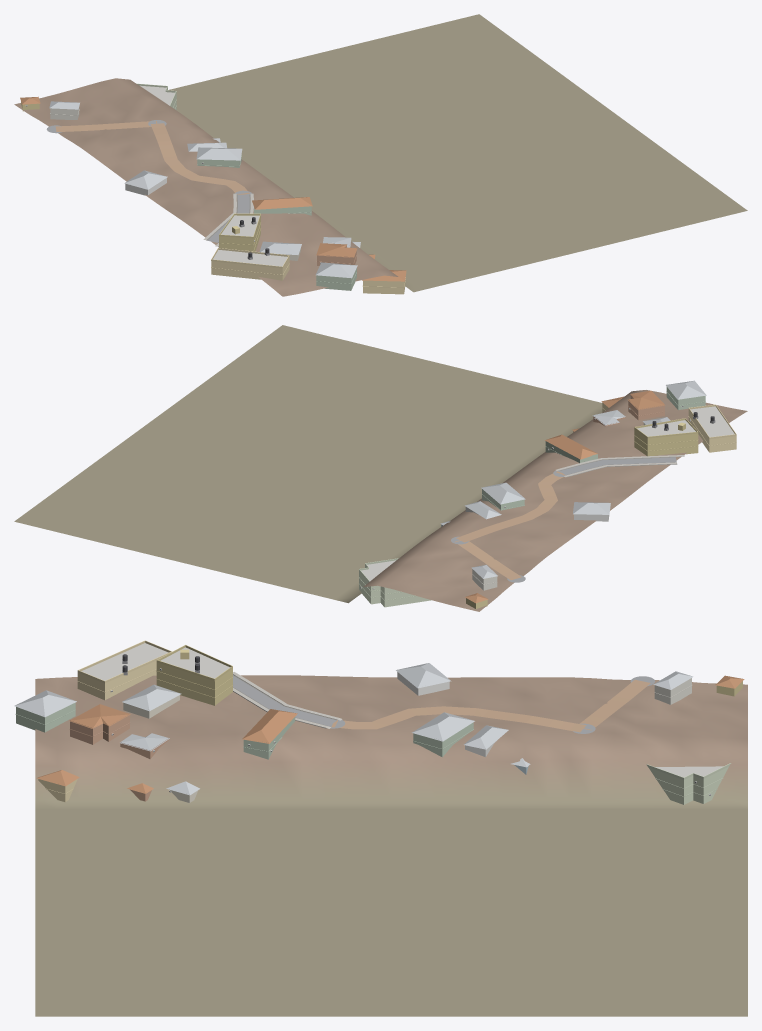
3 renders of one model, top to bottom at view 1: azimuth 30°, elevation 25°; view 2: azimuth 150°, elevation 25°; view 3: azimuth 270°, elevation 25°, orthographic. The views are drawn at different scales.
Parts seen in each view (by area): view 1: Terrain-col, Buildings-col, Roads-col, Details; view 2: Terrain-col, Buildings-col, Roads-col, Details, Sidewalks-col; view 3: Terrain-col, Buildings-col, Roads-col, Details, Sidewalks-col.
Part boxes in pixels (bbox=[...]): Terrain-col: bbox=[14, 14, 747, 296]; Buildings-col: bbox=[20, 85, 406, 294]; Roads-col: bbox=[46, 120, 251, 242]; Details: bbox=[25, 83, 405, 287]; Terrain-col: bbox=[14, 325, 747, 611]; Buildings-col: bbox=[359, 380, 736, 608]; Roads-col: bbox=[451, 457, 676, 582]; Details: bbox=[358, 391, 736, 600]; Sidewalks-col: bbox=[555, 455, 684, 477]; Terrain-col: bbox=[35, 675, 747, 1016]; Buildings-col: bbox=[14, 643, 744, 804]; Roads-col: bbox=[233, 674, 655, 733]; Details: bbox=[15, 640, 731, 796]; Sidewalks-col: bbox=[233, 672, 342, 728].
Size of the model in its own units: 273 by 28.9 by 264.
